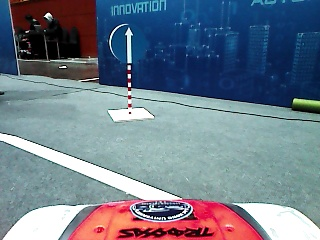straight: (109, 22, 150, 64)
